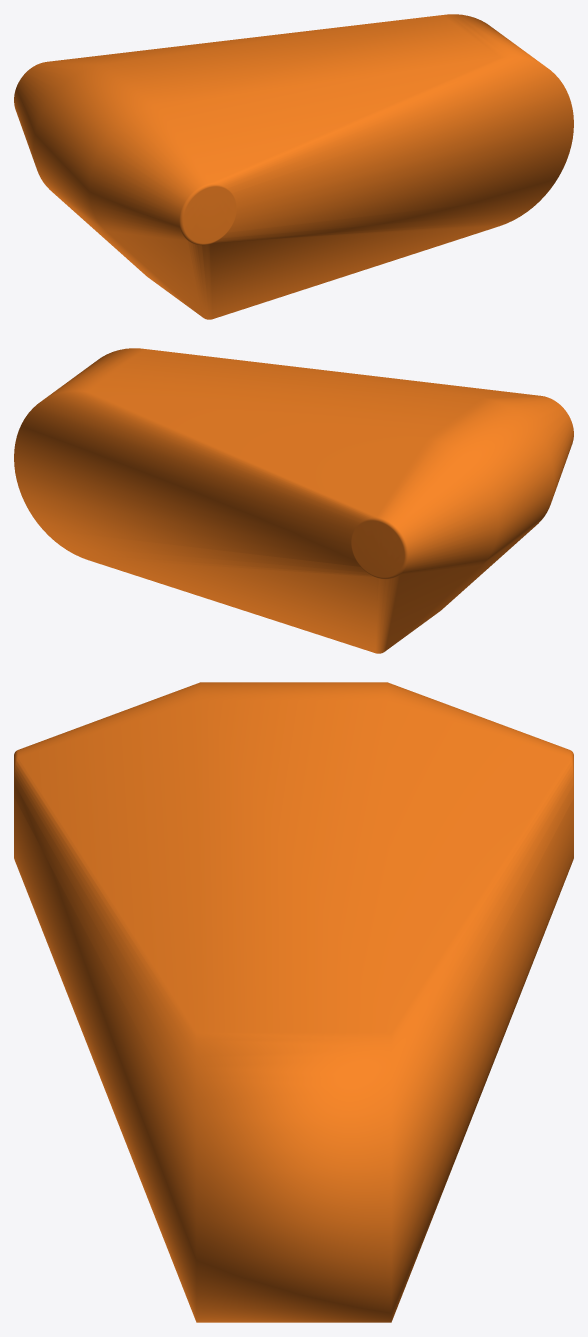
3 views of the same model, one above another, from view 1: azimuth 30°, elevation 25°; view 2: azimuth 150°, elevation 25°; view 3: azimuth 270°, elevation 25° (orthographic). The views are drawn at different scales.
Visible parts, largest first — view 1: gripper_frame; view 2: gripper_frame; view 3: gripper_frame.
Part boxes in pixels (x1,y1,x2,y2): gripper_frame: (14,14,573,319); gripper_frame: (14,348,573,653); gripper_frame: (14,682,573,1322).
Size of the model in its own units: 0.0449 by 0.0202 by 0.027.
